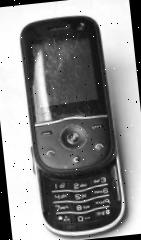electronic: (16, 12, 128, 240)
